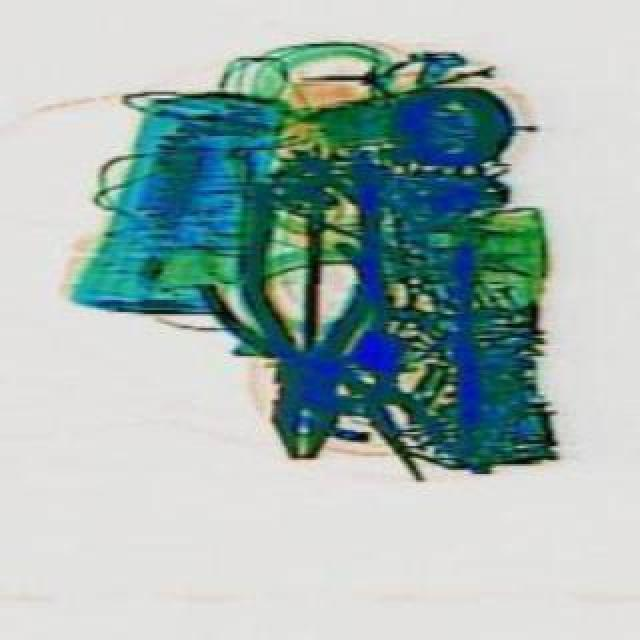wrench: (192, 204, 496, 512), (224, 150, 380, 460)
